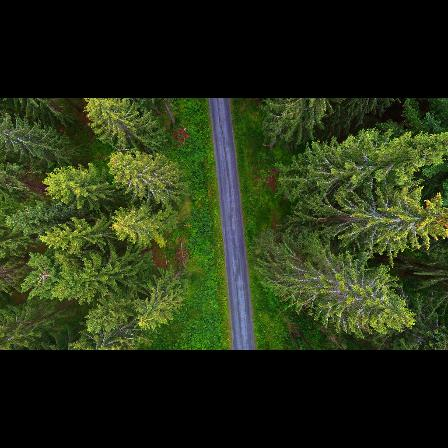Sick: (23, 258, 64, 298)
